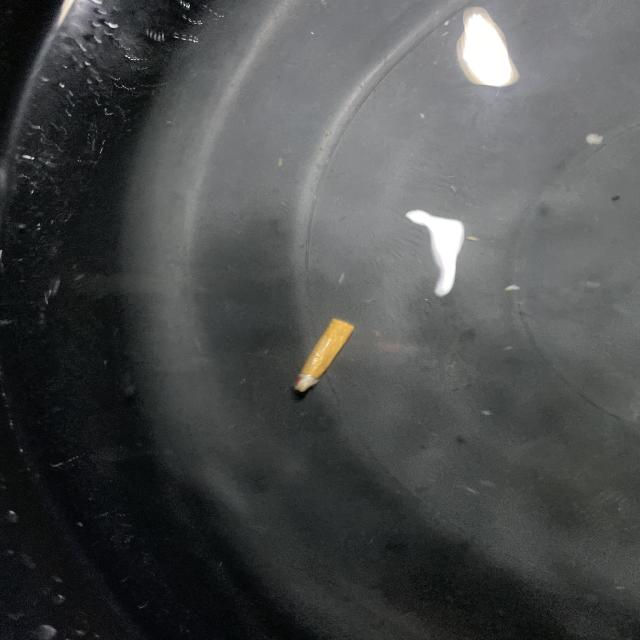Cigarette Filter: (269, 290, 364, 404)
